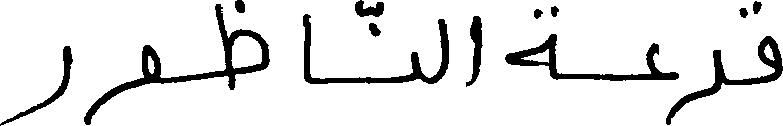X: (84, 40, 160, 125), (0, 41, 70, 125), (215, 0, 267, 94), (505, 1, 554, 83), (680, 45, 721, 113), (647, 38, 678, 125), (758, 0, 782, 88), (469, 11, 480, 90), (438, 14, 447, 85), (302, 9, 310, 88)
